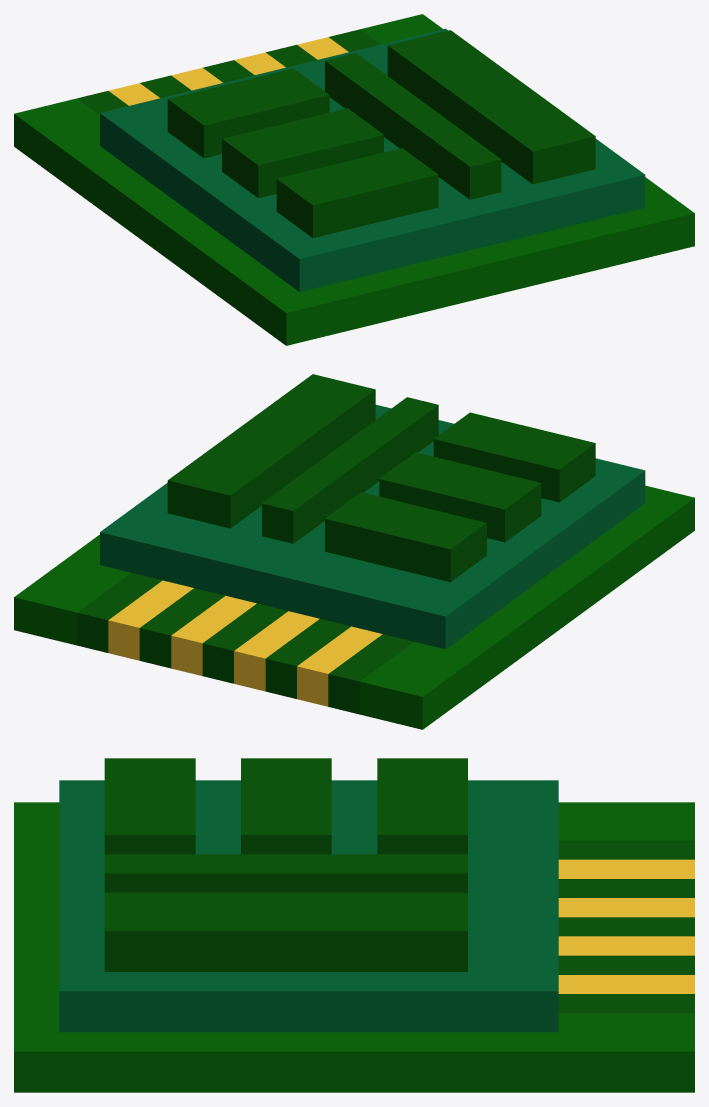
File: closed-circuit-3.gltf
The picture shows the model from 3 angles, top to bottom: view 1: azimuth 30°, elevation 25°; view 2: azimuth 150°, elevation 25°; view 3: azimuth 270°, elevation 25°; orthographic projection. The views are drawn at different scales.
Visible parts, largest first — view 1: Node; view 2: Node; view 3: Node.
Boxes of the visible parts, x1,y1,x2,y2 form: Node: (14, 14, 694, 345); Node: (14, 374, 694, 729); Node: (14, 758, 694, 1092).
Bounding box in the file's own units: 1.3 × 0.3 × 1.5.
Materials: 1 (1 with a texture image).
